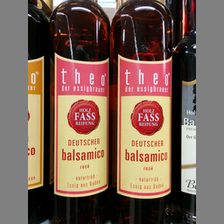vinegar: (110, 1, 177, 224), (48, 1, 112, 224)
